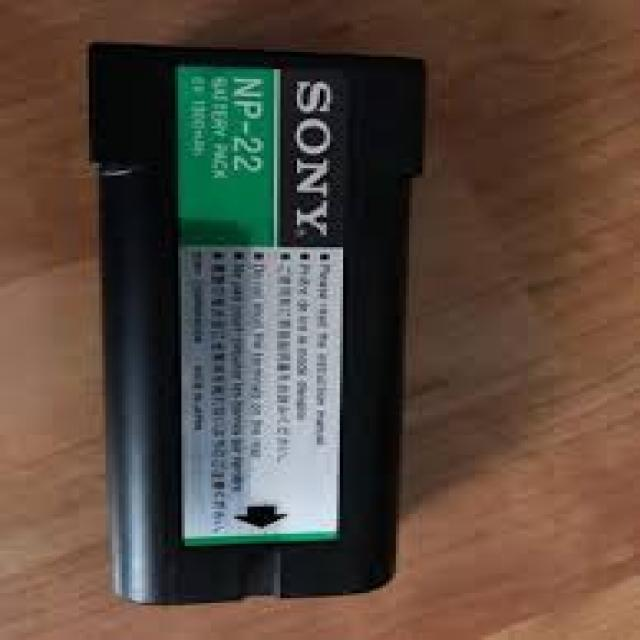battery: (90, 41, 433, 604)
